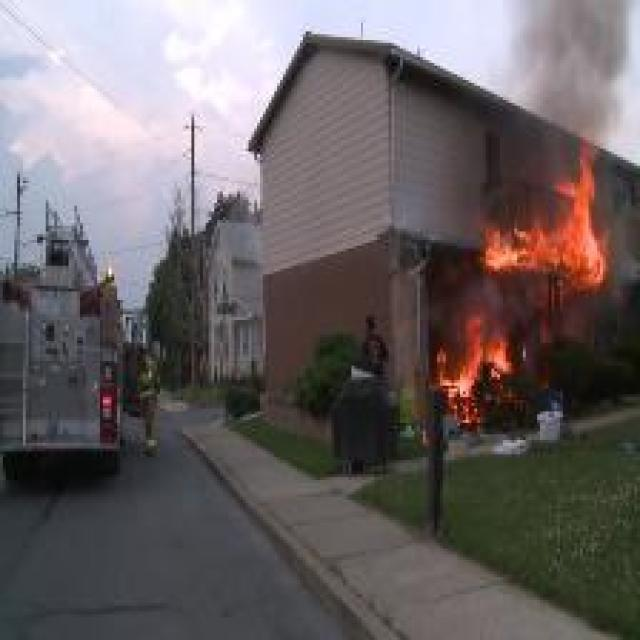Fire: (486, 146, 610, 278), (446, 318, 512, 394)
Smoke: (513, 0, 629, 138)
